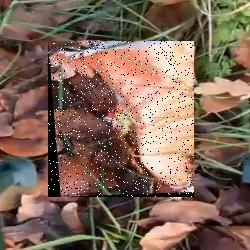restaffald: (48, 41, 194, 197)
